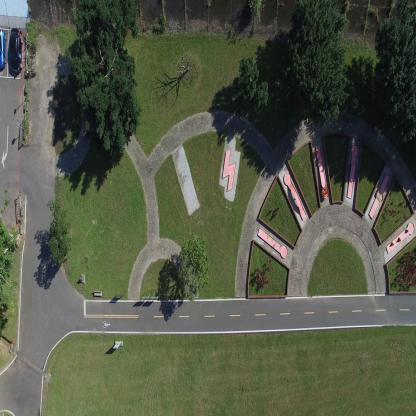car: (8, 27, 23, 71), (0, 28, 7, 69)
